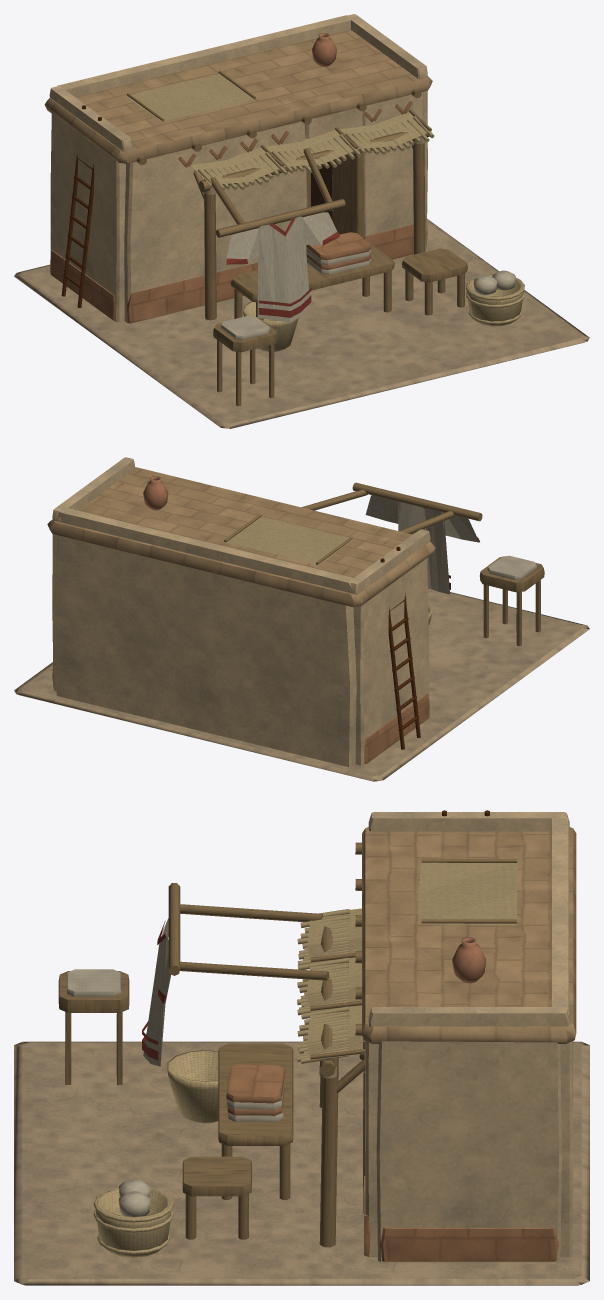
File: tailor.glb
The picture shows the model from 3 angles, top to bottom: view 1: azimuth 30°, elevation 25°; view 2: azimuth 150°, elevation 25°; view 3: azimuth 270°, elevation 25°; orthographic projection. The views are drawn at different scales.
Parts seen in each view (by area): view 1: original-tailor-warm-clay-plaster, original-tailor-alluvial-earth, original-tailor-game-raw-brick-facing, original-tailor-worn-timber, original-tailor-reed-mat, original-tailor-woven-linen, original-tailor-game-fired-brick-facing, roof-access-tailor, original-tailor-courtyard-dyed-weft, original-tailor-fired-pottery, original-tailor-game-door-shadow; view 2: original-tailor-warm-clay-plaster, original-tailor-alluvial-earth, original-tailor-game-raw-brick-facing, original-tailor-worn-timber, original-tailor-woven-linen, original-tailor-reed-mat, roof-access-tailor, original-tailor-game-fired-brick-facing, original-tailor-fired-pottery; view 3: original-tailor-alluvial-earth, original-tailor-warm-clay-plaster, original-tailor-game-raw-brick-facing, original-tailor-worn-timber, original-tailor-reed-mat, original-tailor-game-fired-brick-facing, original-tailor-woven-linen, original-tailor-fired-pottery.
Part boxes in pixels (x1=…): original-tailor-warm-clay-plaster: x1=49, y1=14, x2=427, y2=323; original-tailor-alluvial-earth: x1=14, y1=218, x2=589, y2=428; original-tailor-game-raw-brick-facing: x1=44, y1=30, x2=432, y2=163; original-tailor-worn-timber: x1=127, y1=71, x2=467, y2=406; original-tailor-reed-mat: x1=126, y1=74, x2=524, y2=351; original-tailor-woven-linen: x1=221, y1=212, x2=515, y2=339; original-tailor-game-fired-brick-facing: x1=50, y1=101, x2=427, y2=323; roof-access-tailor: x1=61, y1=105, x2=101, y2=308; original-tailor-courtyard-dyed-weft: x1=226, y1=218, x2=339, y2=317; original-tailor-fired-pottery: x1=311, y1=33, x2=336, y2=66; original-tailor-game-door-shadow: x1=311, y1=162, x2=332, y2=219; original-tailor-warm-clay-plaster: x1=52, y1=457, x2=430, y2=767; original-tailor-alluvial-earth: x1=14, y1=589, x2=589, y2=781; original-tailor-game-raw-brick-facing: x1=47, y1=467, x2=435, y2=606; original-tailor-worn-timber: x1=224, y1=482, x2=544, y2=646; original-tailor-woven-linen: x1=365, y1=495, x2=536, y2=594; original-tailor-reed-mat: x1=223, y1=516, x2=432, y2=625; roof-access-tailor: x1=380, y1=546, x2=420, y2=749; original-tailor-game-fired-brick-facing: x1=52, y1=664, x2=429, y2=763; original-tailor-fired-pottery: x1=143, y1=476, x2=168, y2=510; original-tailor-alluvial-earth: x1=14, y1=1041, x2=589, y2=1285; original-tailor-warm-clay-plaster: x1=364, y1=812, x2=572, y2=1262; original-tailor-game-raw-brick-facing: x1=362, y1=827, x2=576, y2=1043; original-tailor-worn-timber: x1=58, y1=842, x2=516, y2=1247; original-tailor-reed-mat: x1=93, y1=860, x2=516, y2=1257; original-tailor-game-fired-brick-facing: x1=226, y1=1038, x2=558, y2=1261; original-tailor-woven-linen: x1=67, y1=918, x2=284, y2=1216; original-tailor-fired-pottery: x1=452, y1=937, x2=486, y2=983.
Size of the model in its own units: 5.37 by 2.89 by 5.37.
11 materials, 10 textured.
